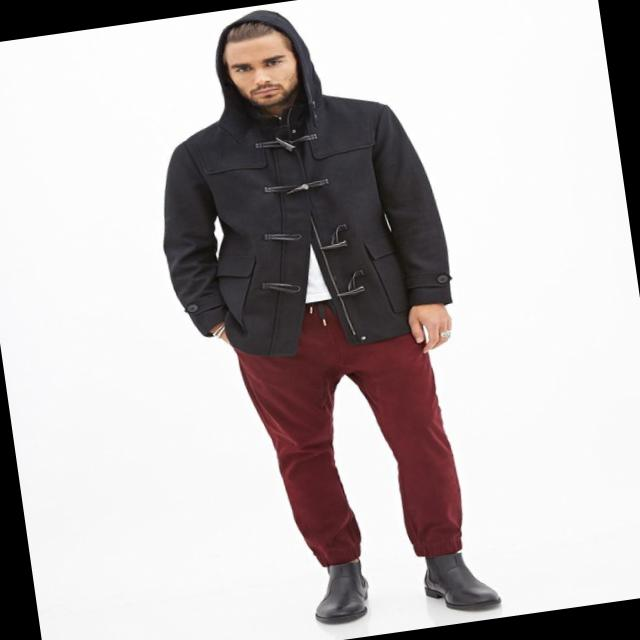Jacket: (126, 0, 457, 370)
